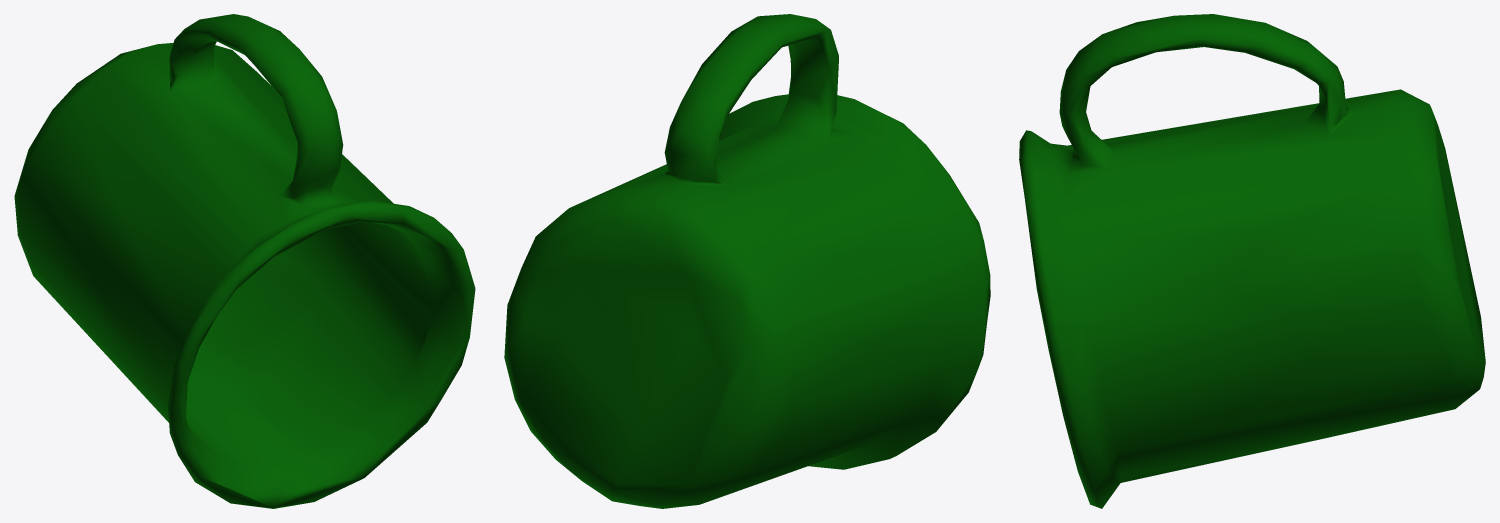
The model's file is mug3_0.dae.
3 renders of one model, left to right at view 1: azimuth 30°, elevation 25°; view 2: azimuth 150°, elevation 25°; view 3: azimuth 270°, elevation 25°, orthographic. The views are drawn at different scales.
Parts seen in each view (by area): view 1: RedCup_800_tex; view 2: RedCup_800_tex; view 3: RedCup_800_tex.
Part boxes in pixels (x1,y1,x2,y2): RedCup_800_tex: [14, 14, 475, 508]; RedCup_800_tex: [504, 14, 990, 508]; RedCup_800_tex: [1019, 14, 1485, 508].
Bounding box in the file's own units: 0.1961 × 0.2414 × 0.2688.
